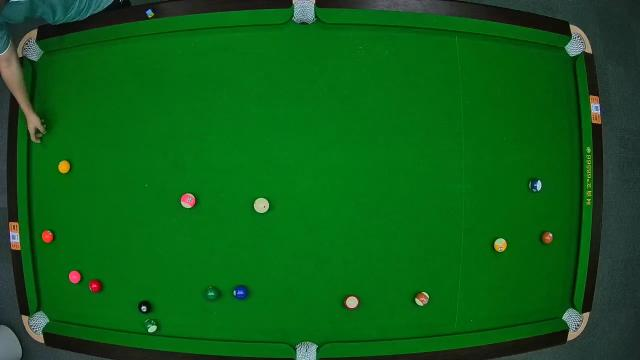bag1: (22, 38, 40, 58)
bag2: (293, 0, 317, 24)
bag3: (567, 33, 585, 55)
bag4: (27, 312, 45, 332)
bag5: (296, 342, 318, 360)
bag6: (563, 309, 583, 329)
ball0: (253, 197, 269, 213)
ball1: (58, 160, 70, 174)
ball10: (530, 179, 542, 194)
ball11: (344, 295, 360, 309)
ball12: (180, 192, 196, 210)
ball14: (142, 318, 158, 334)
ball15: (414, 290, 430, 306)
ball2: (233, 284, 249, 300)
ball3: (88, 278, 102, 292)
ball4: (68, 270, 82, 284)
ball5: (41, 228, 54, 244)
ball6: (204, 284, 220, 300)
ball7: (540, 231, 554, 244)
ball8: (138, 300, 152, 314)
ball9: (494, 238, 508, 253)
